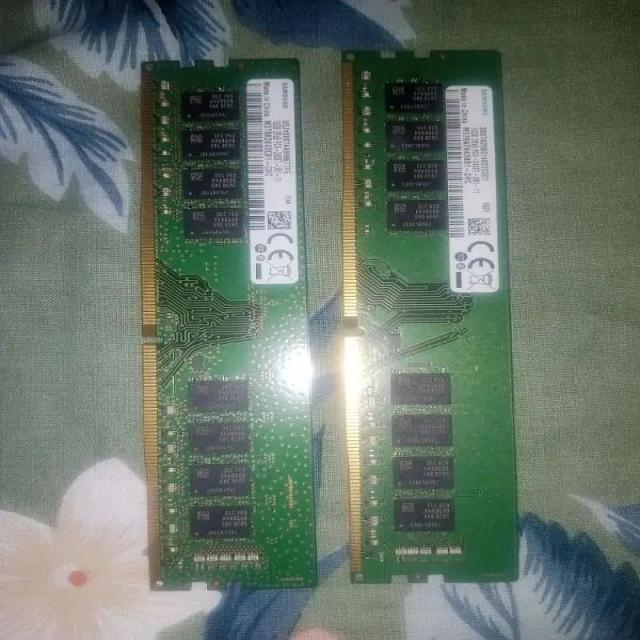electronic: (336, 40, 548, 605), (139, 56, 318, 590)
